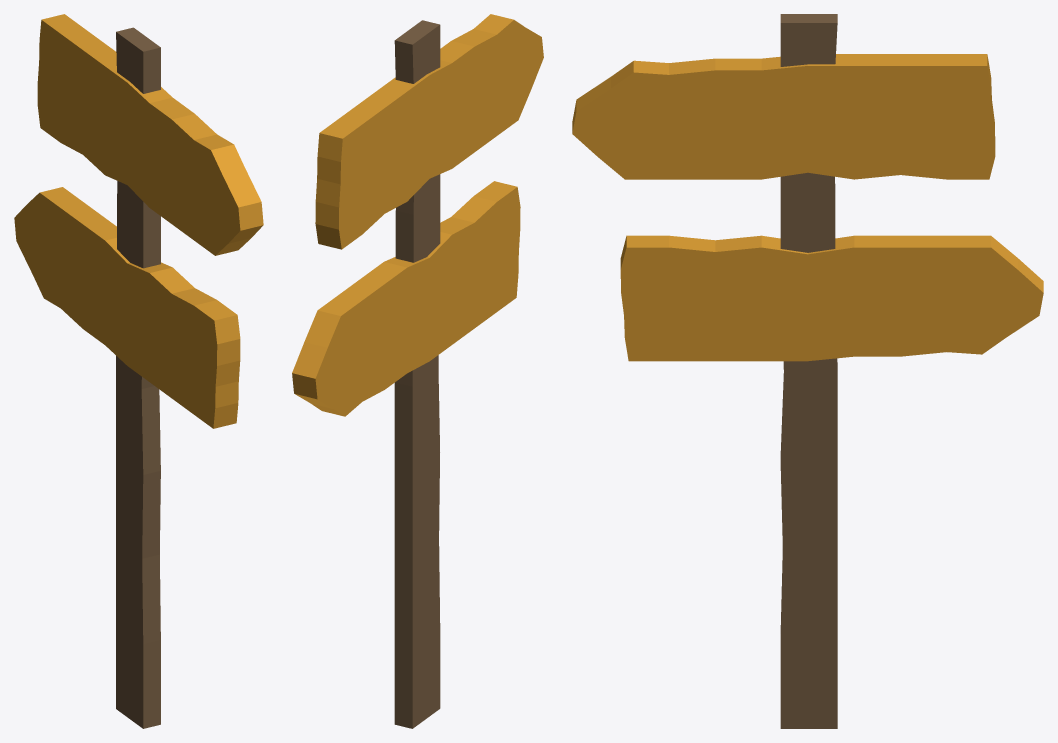
Rendered from SIGNAGE.fbx.
3 renders of one model, left to right at view 1: azimuth 30°, elevation 25°; view 2: azimuth 150°, elevation 25°; view 3: azimuth 270°, elevation 25°, orthographic. The views are drawn at different scales.
Visible parts, largest first — view 1: Cube.002; view 2: Cube.002; view 3: Cube.002.
Part boxes in pixels (left/top/right/bottom): Cube.002: left=14, top=14, right=263, bottom=728; Cube.002: left=292, top=14, right=543, bottom=728; Cube.002: left=572, top=14, right=1043, bottom=728.
Size of the model in its own units: 4.51 by 125 by 75.94.
